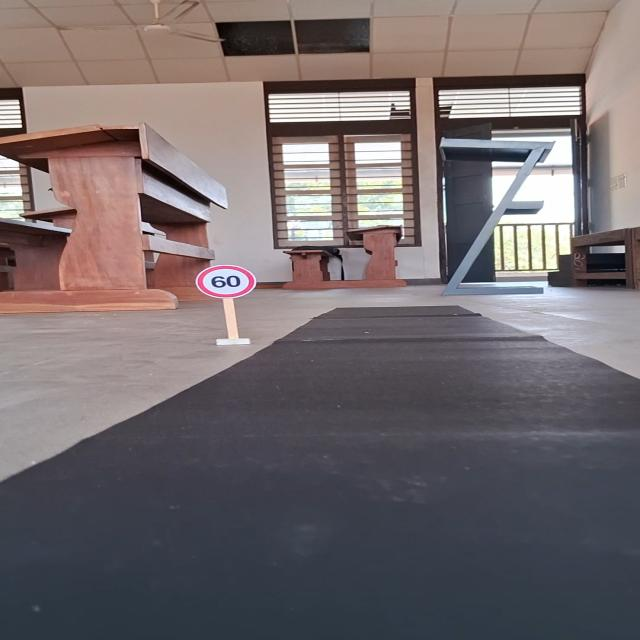Speed60: (194, 264, 257, 300)
